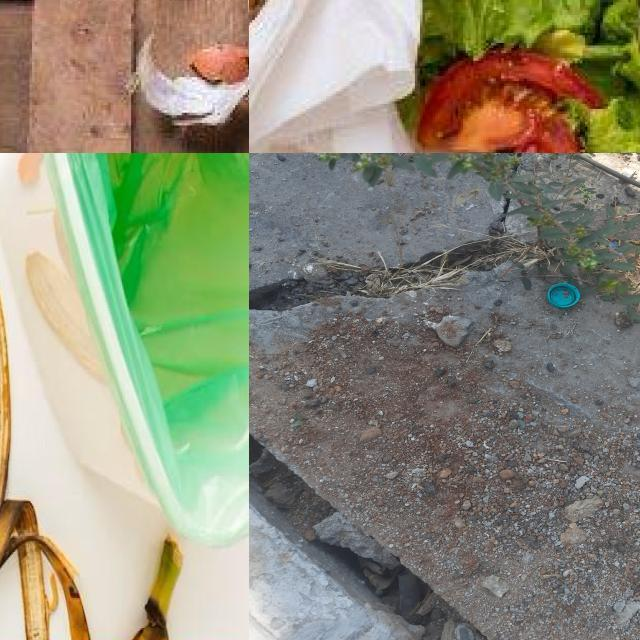Background: (249, 153, 640, 640)
Garbage: (249, 0, 640, 153)
Plastic: (547, 282, 581, 308)
